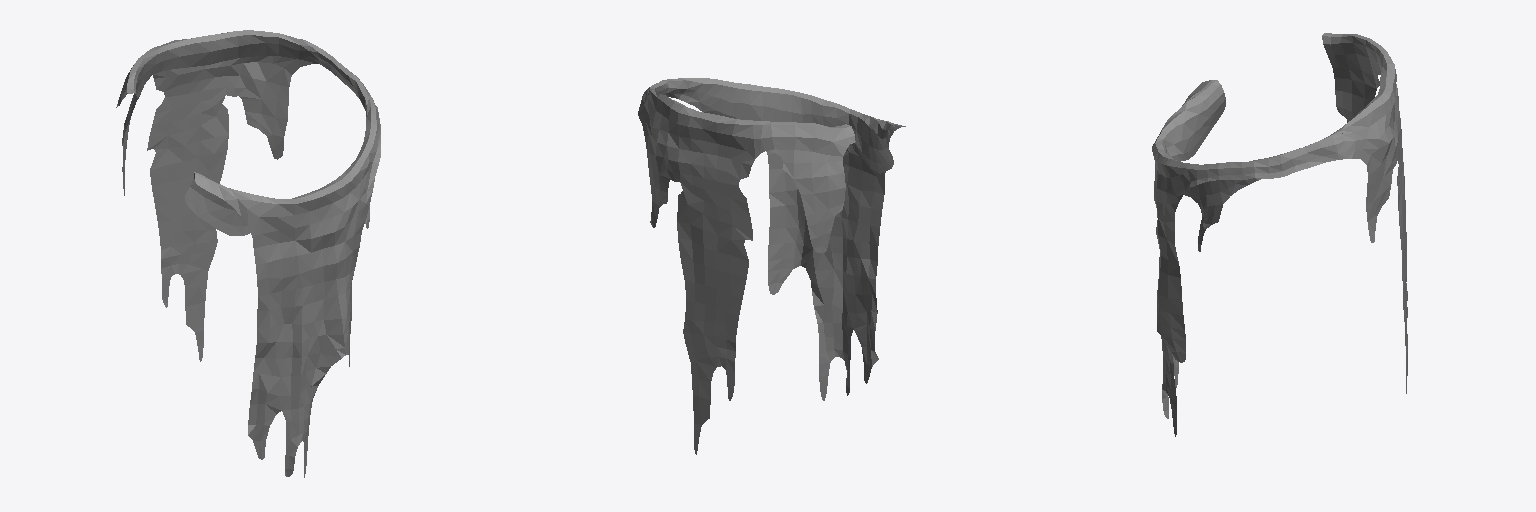
The model's file is CaveTrollCape.obj.
3 renders of one model, left to right at view 1: azimuth 30°, elevation 25°; view 2: azimuth 150°, elevation 25°; view 3: azimuth 270°, elevation 25°, orthographic.
Parts seen in each view (by area): view 1: Orc_1_cloth_2; view 2: Orc_1_cloth_2; view 3: Orc_1_cloth_2.
Part boxes in pixels (left/top/right/bottom): Orc_1_cloth_2: left=116, top=30, right=380, bottom=477; Orc_1_cloth_2: left=638, top=78, right=905, bottom=454; Orc_1_cloth_2: left=1152, top=33, right=1407, bottom=436.
Size of the model in its own units: 0.8419 by 1.31 by 0.8331.